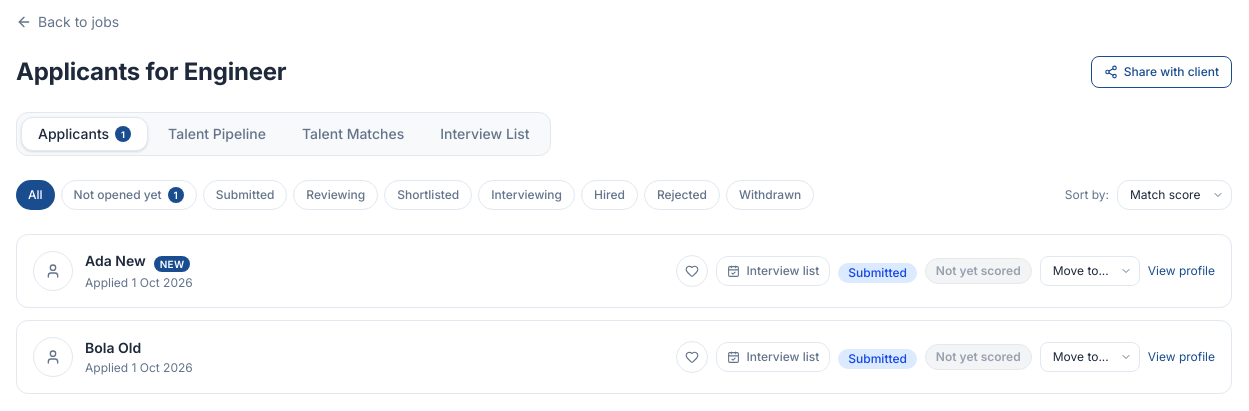
Test case: ApplicantsPage, applicants not opened yet › asks the server for only the unopened ones when the tab is chosen, and "All" brings the rest back
Expected: the text "Bola Old" is shown, [85,339,141,356]
Click the tab with test id "not-opened-tab".
click(129, 195)  # box [61,180,197,210]
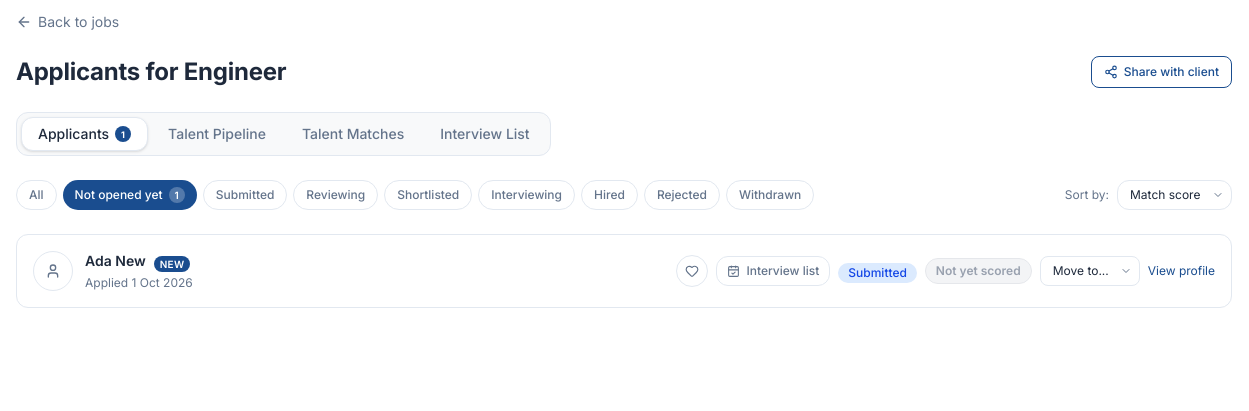
Expected: the text "Ada New" is shown, [85,252,146,269]
Expected: the text "Bola Old" is gone
Click the tab "All".
click(36, 195)  # box [16,180,57,210]
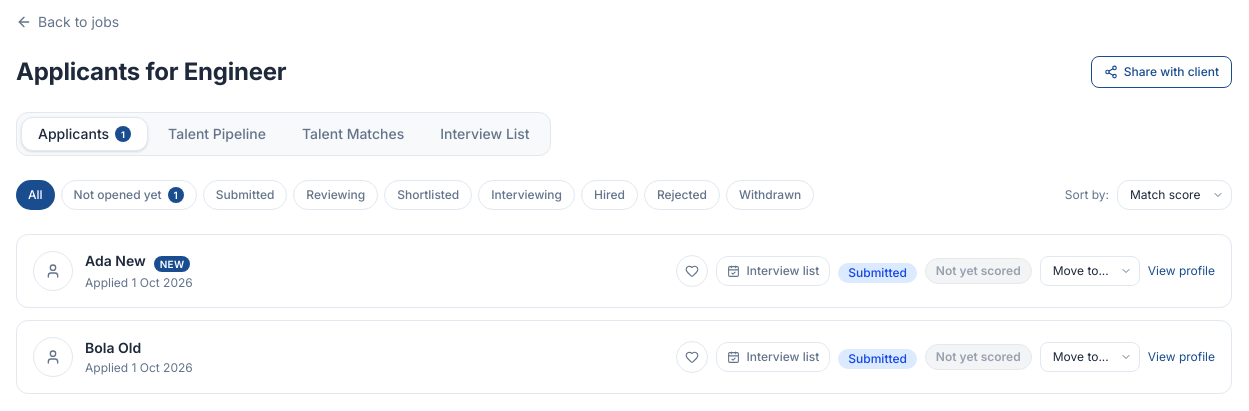
Expected: the text "Bola Old" is shown, [85,339,141,356]
